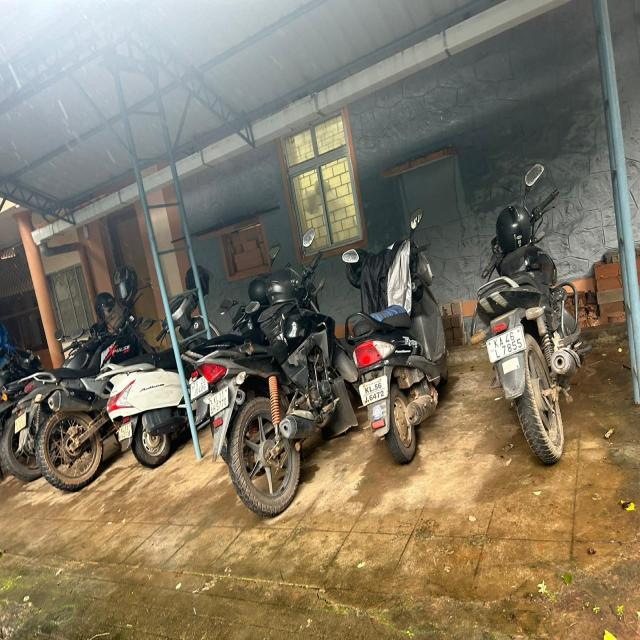motorcycle ahead at: (190, 232, 341, 506), (465, 160, 596, 464), (330, 220, 460, 472), (87, 317, 186, 478)
